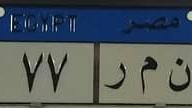7: (19, 50, 45, 94), (47, 49, 69, 95)
meem: (132, 54, 160, 97)
noon: (164, 54, 191, 93)
raa: (100, 59, 130, 94)
